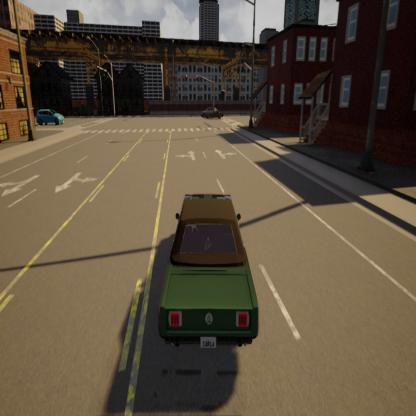Cars: (149, 167, 268, 360), (33, 106, 67, 128), (200, 102, 229, 124)
